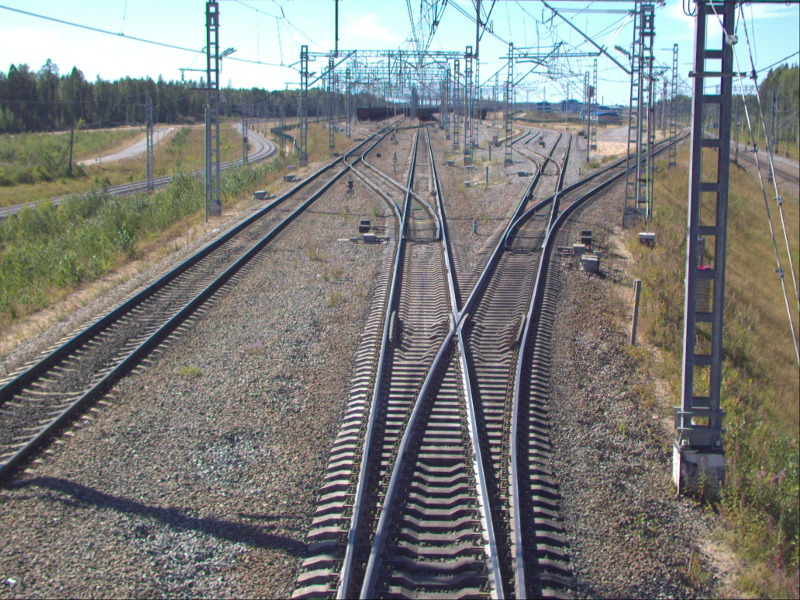left: (502, 190, 565, 244)
right: (400, 188, 449, 242)
